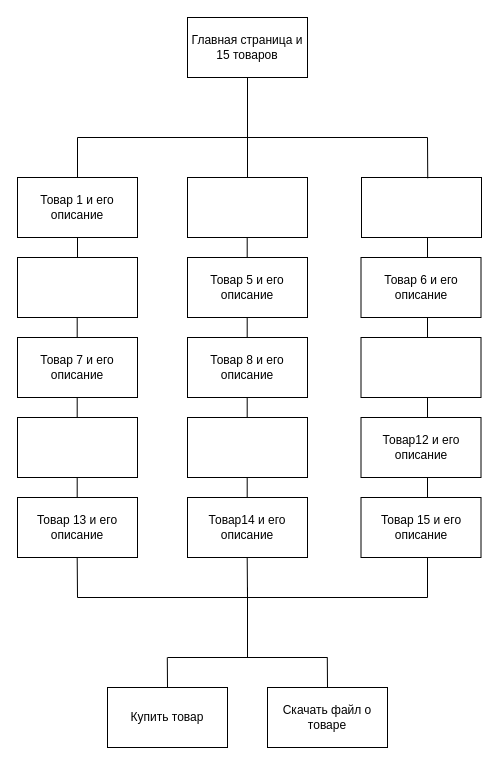
Image size: 499x765. Some labels were removed from this diagram. Here are the shapes that lost their labels. From the top down, the centre of each, then its label:
At (x=247, y=207): "Товар 2 и его описание".
At (x=421, y=207): "Товар 3 и его описание".
At (x=77, y=287): "Товар 4 и его описание".
At (x=420, y=367): "Товар 9 и его описание".
At (x=77, y=447): "Товар 10 и его описание".
At (x=247, y=447): "Товар 11 и его описание".
